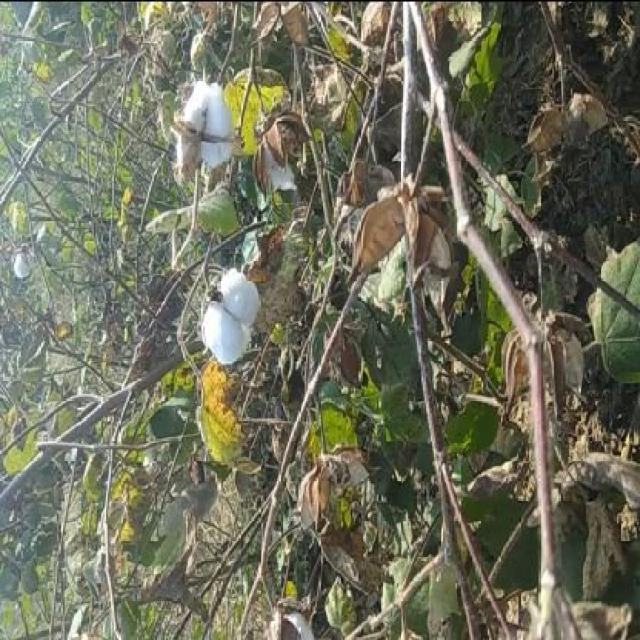cotton_ready: (190, 238, 275, 392), (163, 64, 257, 194)
